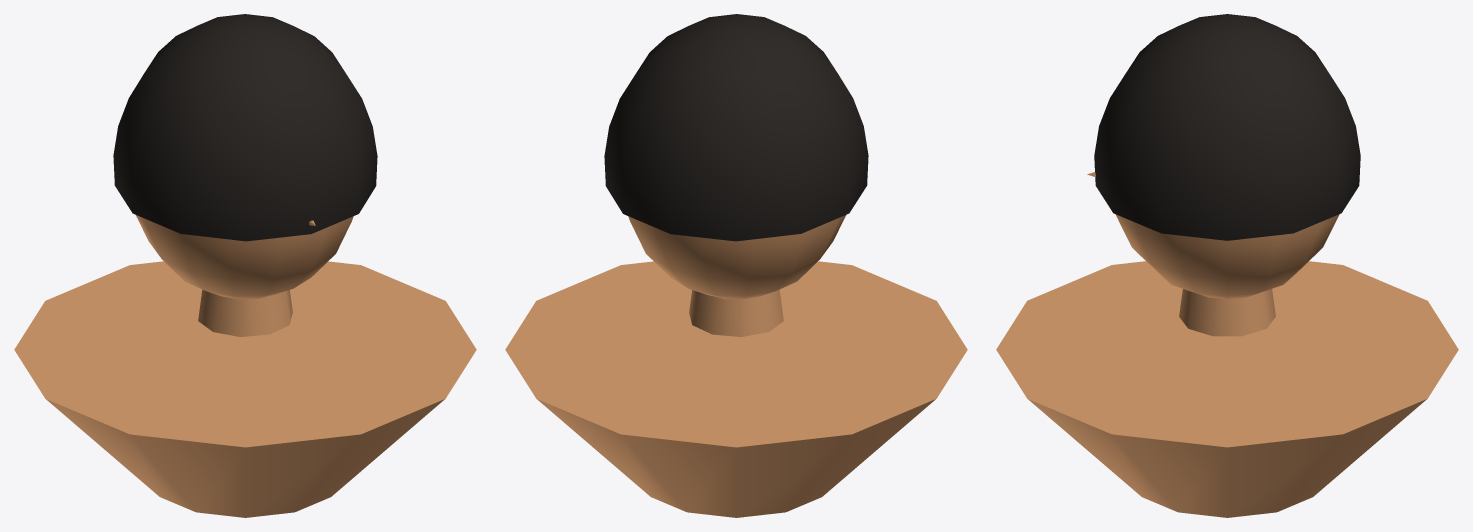
File: portrait15m_003.glb
The picture shows the model from 3 angles, left to right: view 1: azimuth 30°, elevation 25°; view 2: azimuth 150°, elevation 25°; view 3: azimuth 270°, elevation 25°; orthographic projection.
Bounding box in the file's own units: 2 × 2.16 × 2.
